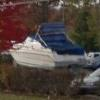Boat: (9, 16, 96, 71)
